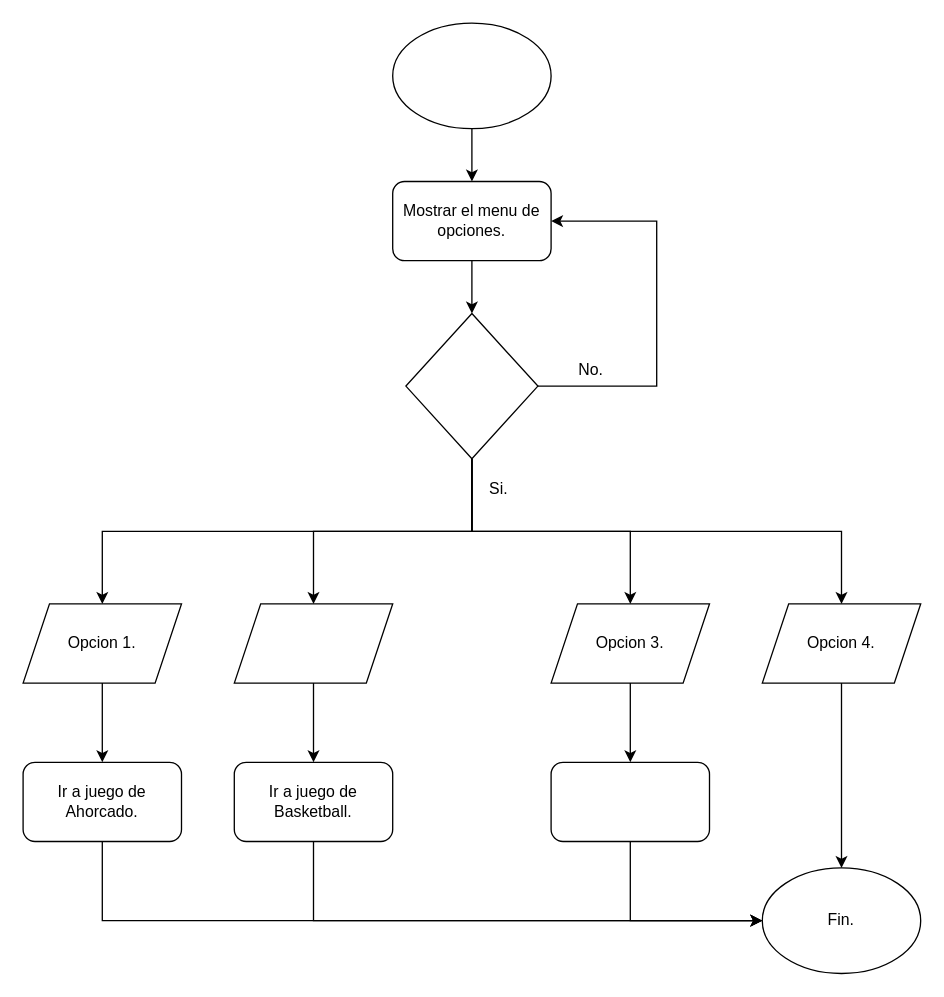
This 944x997 diagram has some shape labels left out. The centre of each missing label's shape, as x and y in pixels:
Comienzo: point 471,75
Ir a juego de Cartas.: point 630,801
Opcion 2.: point 313,643
Valor entre 1 y 4.: point 471,385
